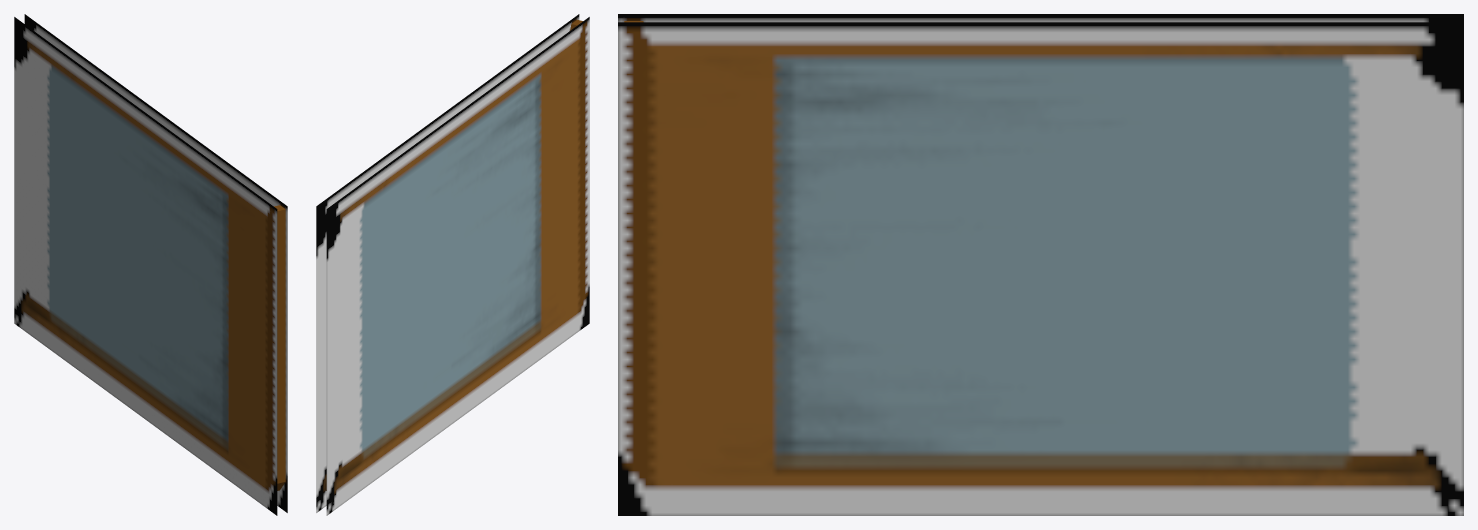
The model's file is pz_native_location_entertainment_theatre_01_24_frame.obj.
The picture shows the model from 3 angles, left to right: view 1: azimuth 30°, elevation 25°; view 2: azimuth 150°, elevation 25°; view 3: azimuth 270°, elevation 25°; orthographic projection. The views are drawn at different scales.
Parts seen in each view (by area): view 1: pz_native_location_entertainment_theatre_01_24_frame; view 2: pz_native_location_entertainment_theatre_01_24_frame; view 3: pz_native_location_entertainment_theatre_01_24_frame.
Boxes of the visible parts, <box> form: pz_native_location_entertainment_theatre_01_24_frame: <box>14,14,287,515</box>; pz_native_location_entertainment_theatre_01_24_frame: <box>316,14,589,515</box>; pz_native_location_entertainment_theatre_01_24_frame: <box>618,14,1463,515</box>.
Bounding box in the file's own units: 0.04 × 1.11 × 1.72.
Materials: 1 (1 with a texture image).
